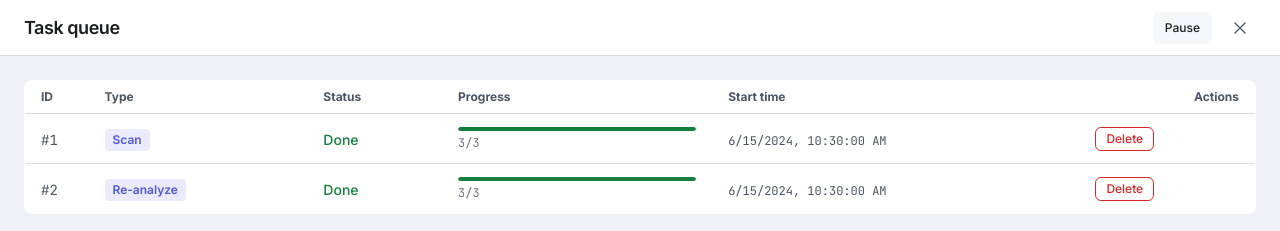
JobsQueuePage › deletes a job and removes its row
Expected: the text "Re-analyze" is shown, [104, 179, 186, 201]
Click the button "Delete" in the row of "Re-analyze" at point(1125, 188), box [1095, 176, 1154, 200]
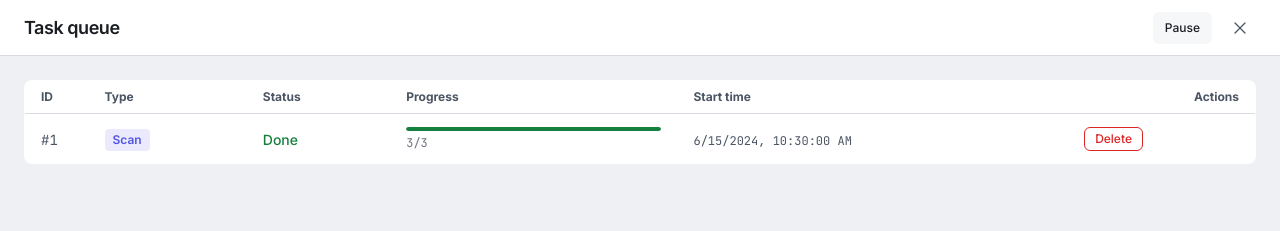
Now the text "Re-analyze" is gone
